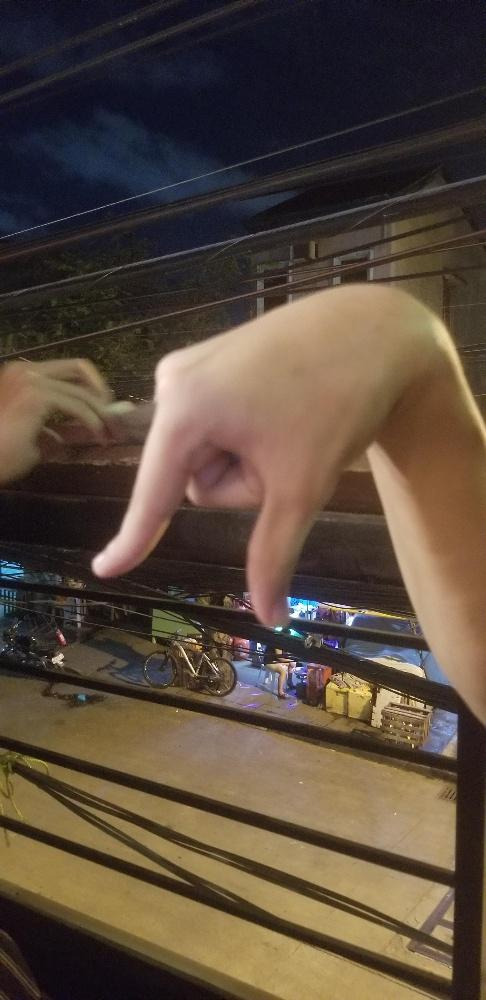q: (83, 283, 433, 631)
